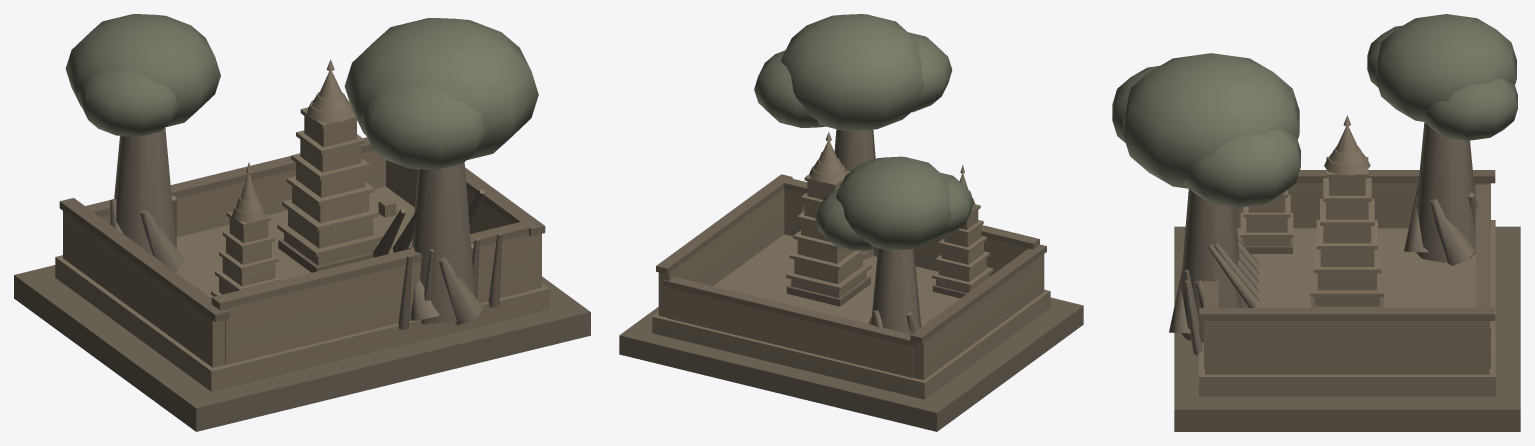
The model's file is ta-prohm.glb.
3 views of the same model, side by side, from view 1: azimuth 30°, elevation 25°; view 2: azimuth 150°, elevation 25°; view 3: azimuth 270°, elevation 25° (orthographic). The views are drawn at different scales.
Bounding box in the file's own units: 4.2 × 3.3 × 3.96.
